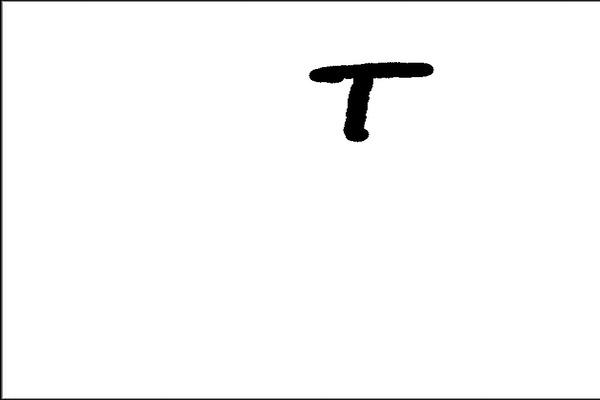T: (303, 51, 434, 145)
